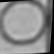no answer: (0, 0, 50, 49)
